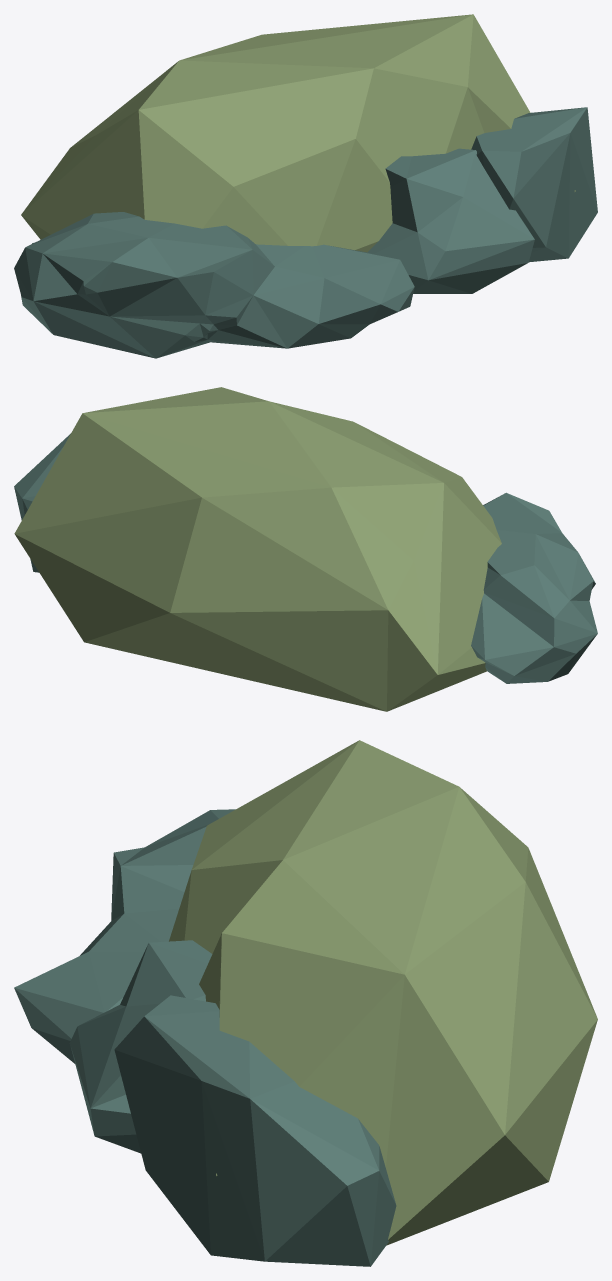
Rendered from 池塘石头1.fbx.
The picture shows the model from 3 angles, top to bottom: view 1: azimuth 30°, elevation 25°; view 2: azimuth 150°, elevation 25°; view 3: azimuth 270°, elevation 25°; orthographic projection. The views are drawn at different scales.
Visible parts, largest first — view 1: 石头3-池塘; view 2: 石头3-池塘; view 3: 石头3-池塘.
Part boxes in pixels (left/top/right/bottom): 石头3-池塘: left=14, top=14, right=597, bottom=358; 石头3-池塘: left=14, top=387, right=597, bottom=711; 石头3-池塘: left=14, top=740, right=597, bottom=1266.
Bounding box in the file's own units: 115 × 40.45 × 75.11.
